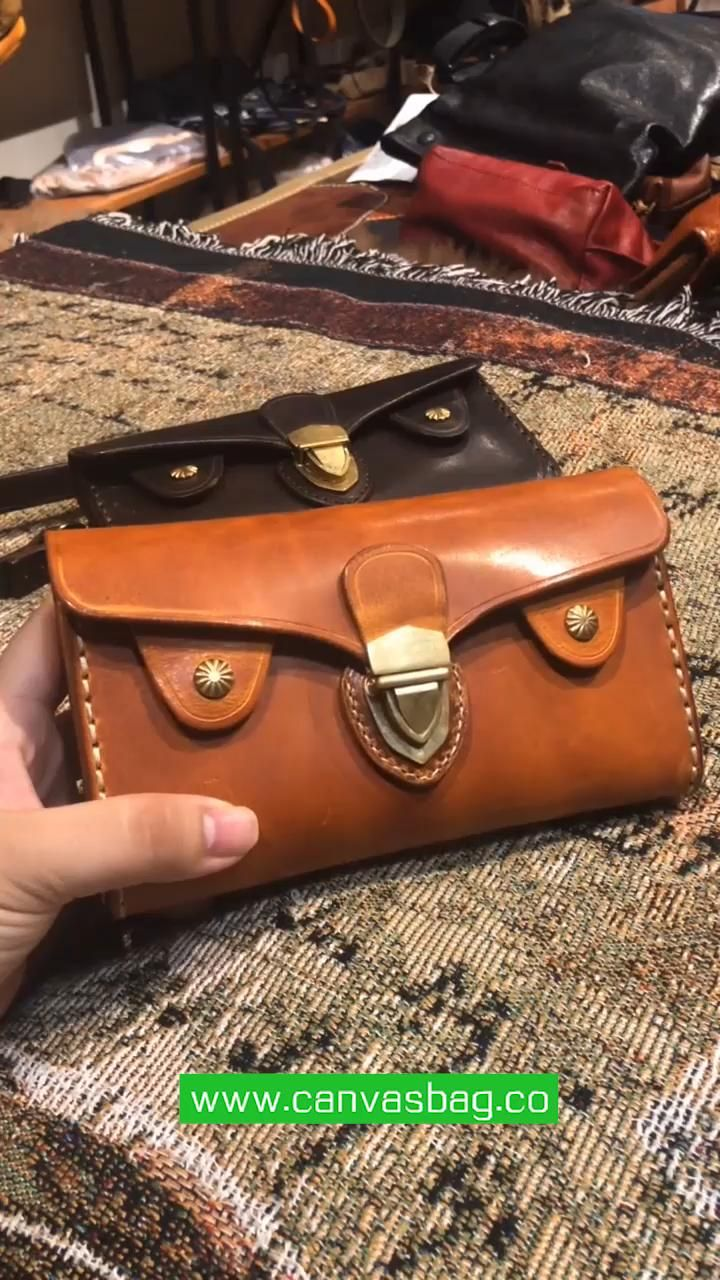cuero: (1, 1, 720, 916)
